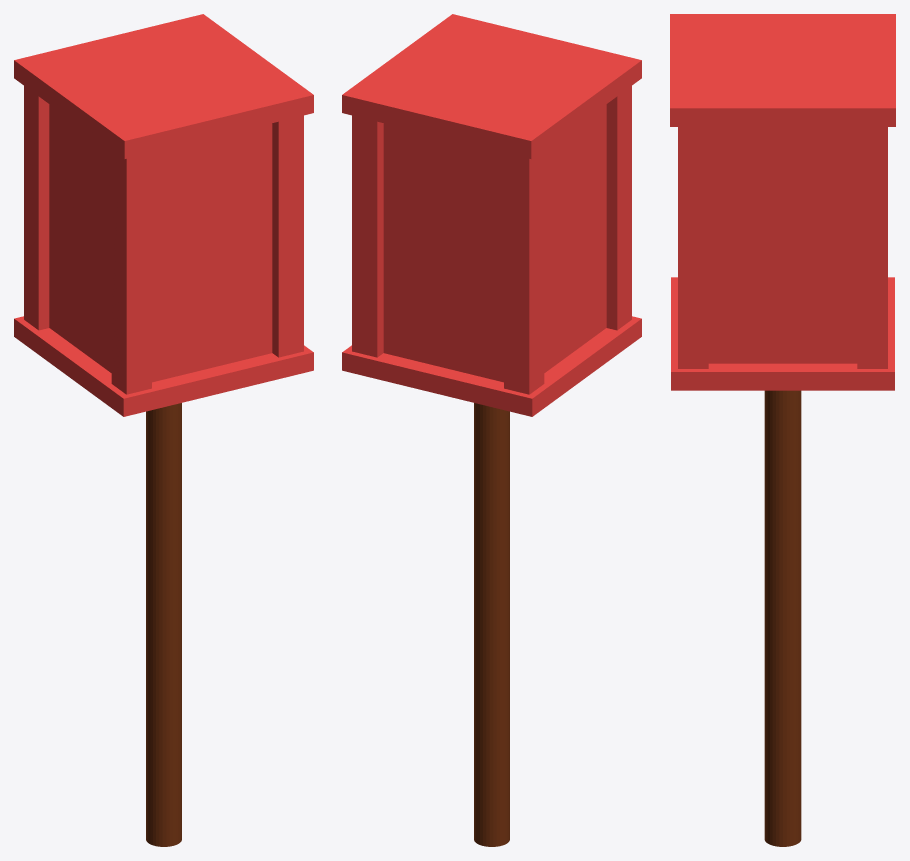
The model's file is lantern.glb.
3 views of the same model, side by side, from view 1: azimuth 30°, elevation 25°; view 2: azimuth 150°, elevation 25°; view 3: azimuth 270°, elevation 25° (orthographic). The views are drawn at different scales.
Parts seen in each view (by area): view 1: Cube.001, Cylinder; view 2: Cube.001, Cylinder; view 3: Cube.001, Cylinder.
Boxes of the visible parts, left/top/right/bottom form: Cube.001: left=14, top=14, right=313, bottom=416; Cylinder: left=146, top=403, right=181, bottom=846; Cube.001: left=342, top=14, right=641, bottom=416; Cylinder: left=474, top=403, right=509, bottom=846; Cube.001: left=670, top=14, right=895, bottom=390; Cylinder: left=764, top=390, right=801, bottom=846.
Size of the model in its own units: 2.43 by 9.32 by 2.45.
